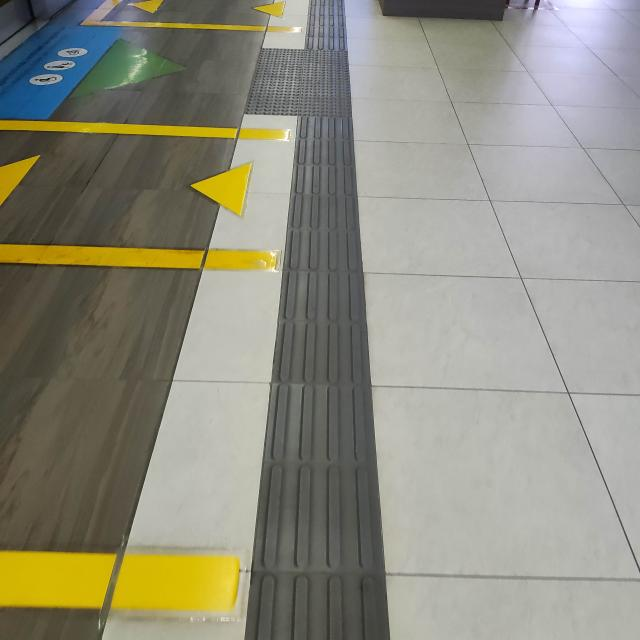lurus: (275, 107, 378, 640)
